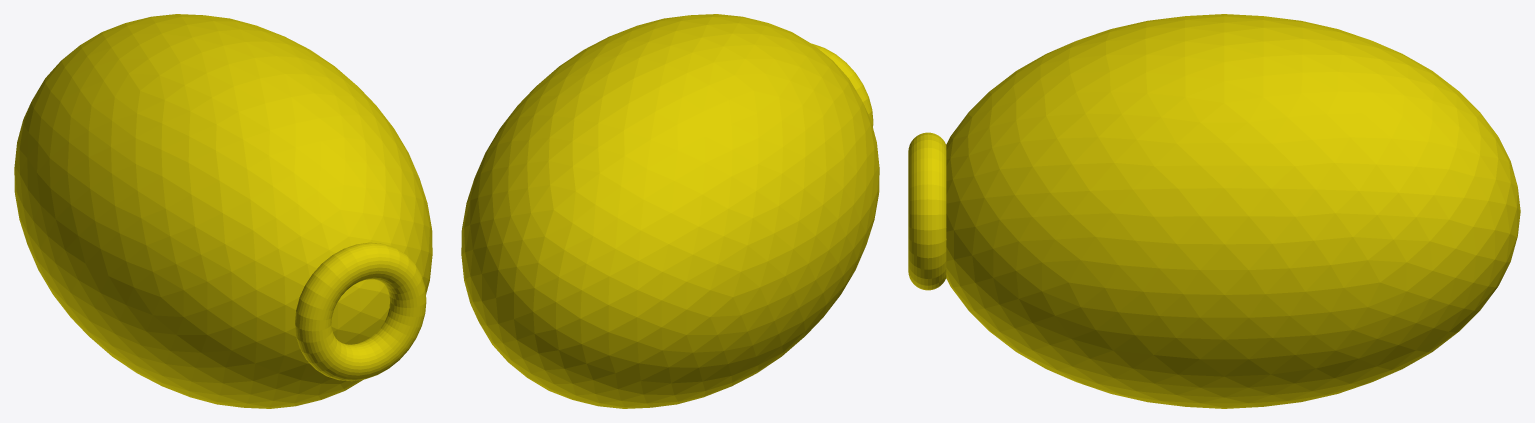
3 views of the same model, side by side, from view 1: azimuth 30°, elevation 25°; view 2: azimuth 150°, elevation 25°; view 3: azimuth 270°, elevation 25° (orthographic). The views are drawn at different scales.
Visible parts, largest first — view 1: world; view 2: world; view 3: world.
Part boxes in pixels (x1=…): world: x1=14, y1=14, x2=432, y2=408; world: x1=461, y1=14, x2=879, y2=408; world: x1=908, y1=14, x2=1520, y2=408.
Bounding box in the file's own units: 2 × 2 × 3.1.
